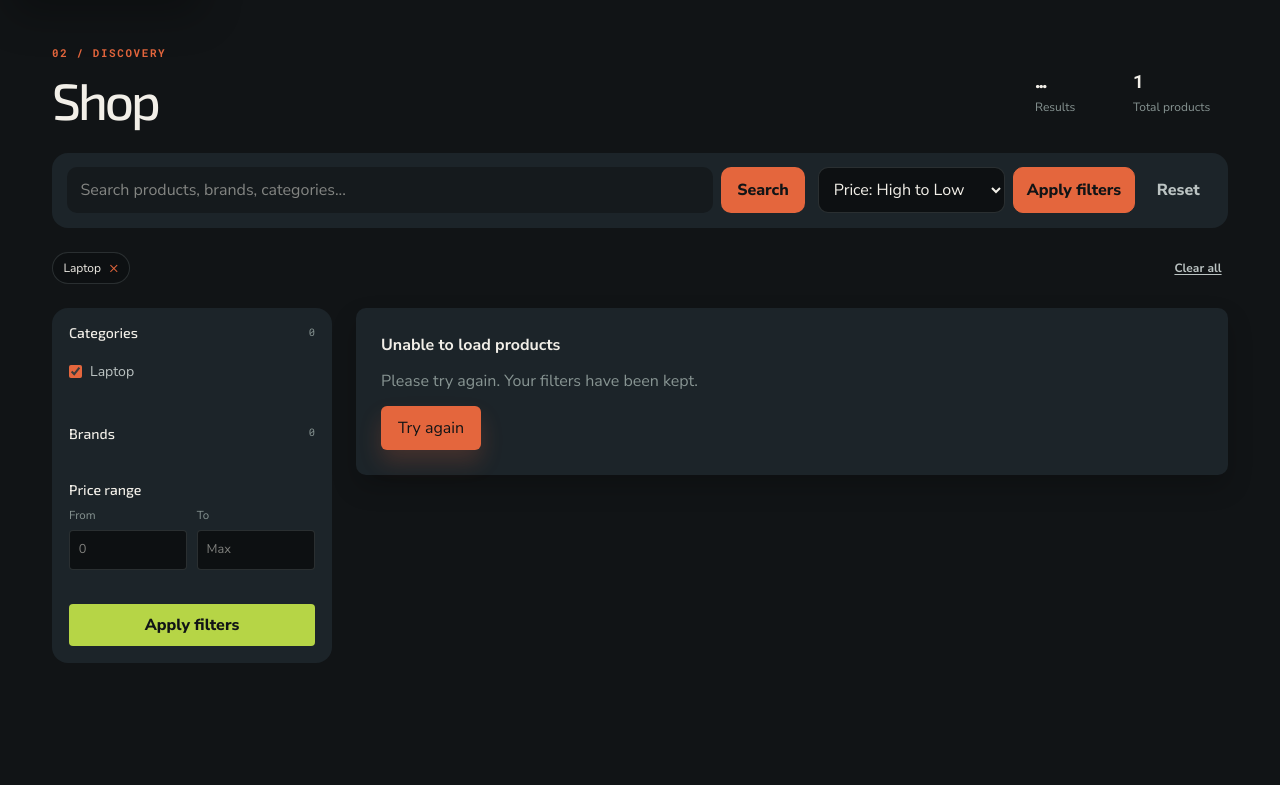
Test: catalog request reliability › distinguishes an API failure from empty results and recovers in en
Expected: the message shows "Unable to load products", left=381, top=334, right=560, bottom=356
Click the button "Try again" at {"x": 431, "y": 428}, box left=381, top=406, right=481, bottom=450
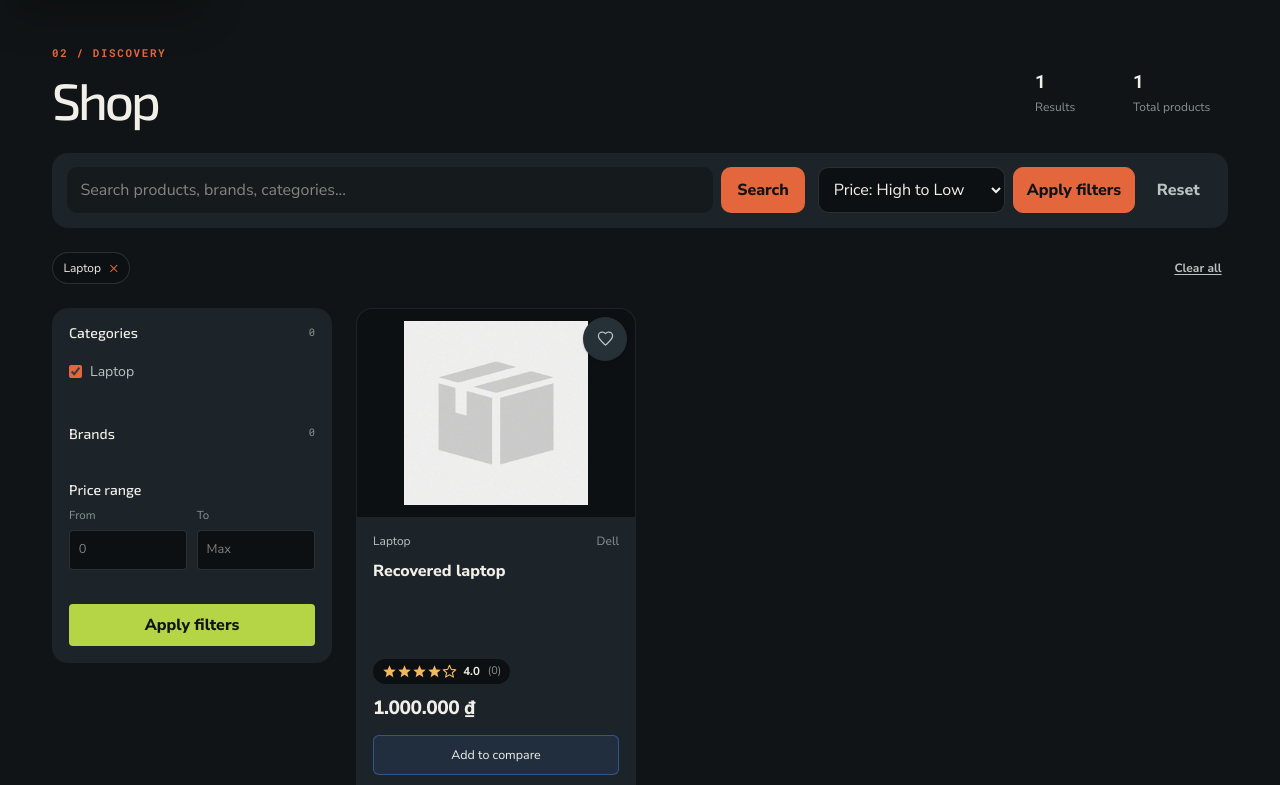
Expected: the 1st text "Laptop" is shown, left=63, top=259, right=101, bottom=277
Expected: the link "Recovered laptop" is shown, left=373, top=560, right=506, bottom=582
Expected: the message is gone
